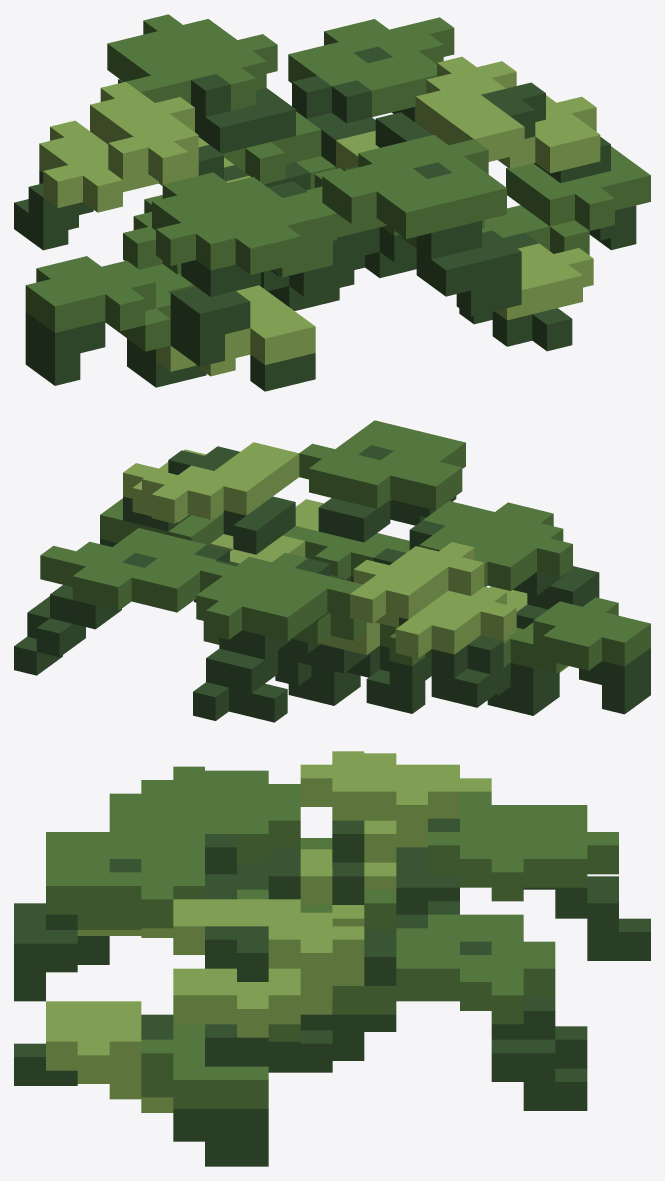
Rendered from fern_cluster_v2_species2_far.glb.
3 views of the same model, one above another, from view 1: azimuth 30°, elevation 25°; view 2: azimuth 150°, elevation 25°; view 3: azimuth 270°, elevation 25° (orthographic). The views are drawn at different scales.
Visible parts, largest first — view 1: fern_cluster_v2_species2_far; view 2: fern_cluster_v2_species2_far; view 3: fern_cluster_v2_species2_far.
Boxes of the visible parts, bbox=[...] form: fern_cluster_v2_species2_far: bbox=[14, 14, 650, 391]; fern_cluster_v2_species2_far: bbox=[14, 420, 650, 722]; fern_cluster_v2_species2_far: bbox=[14, 751, 650, 1166].
Bounding box in the file's own units: 2.88 × 0.875 × 2.5.
1 material, 1 textured.
